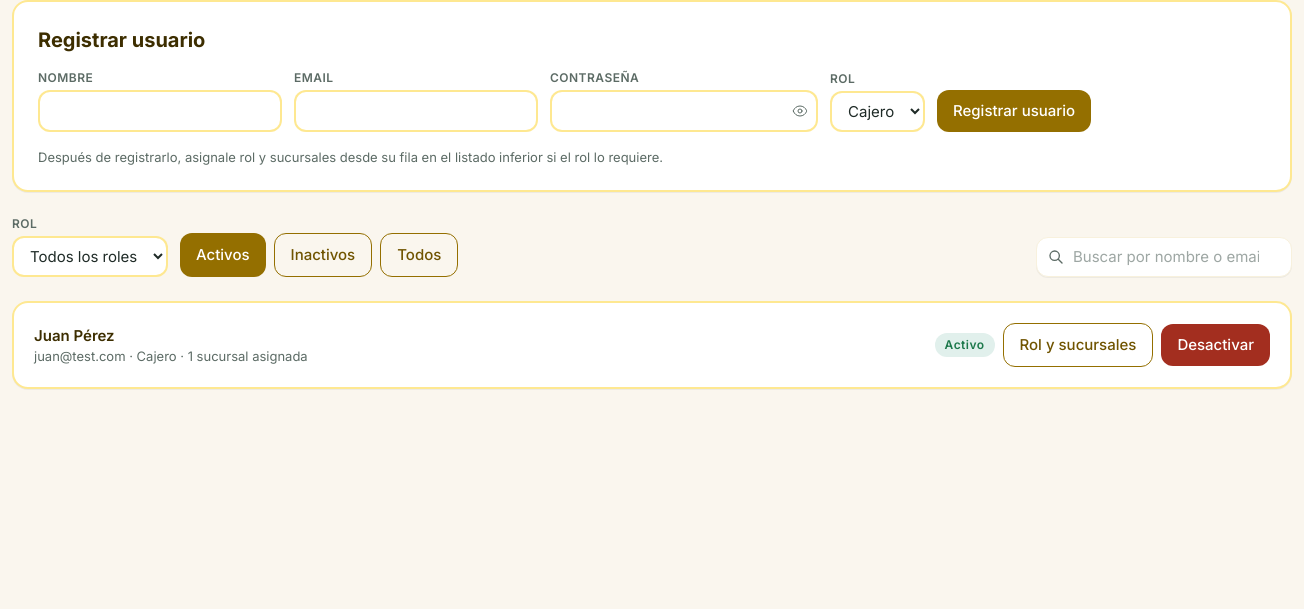
Test: Usuarios › oculta las casillas de sucursales cuando el rol elegido tiene alcance de cadena (dueño no necesita sucursales)
Click the button "Rol y sucursales" at (1078, 345), box [1002, 323, 1153, 367]
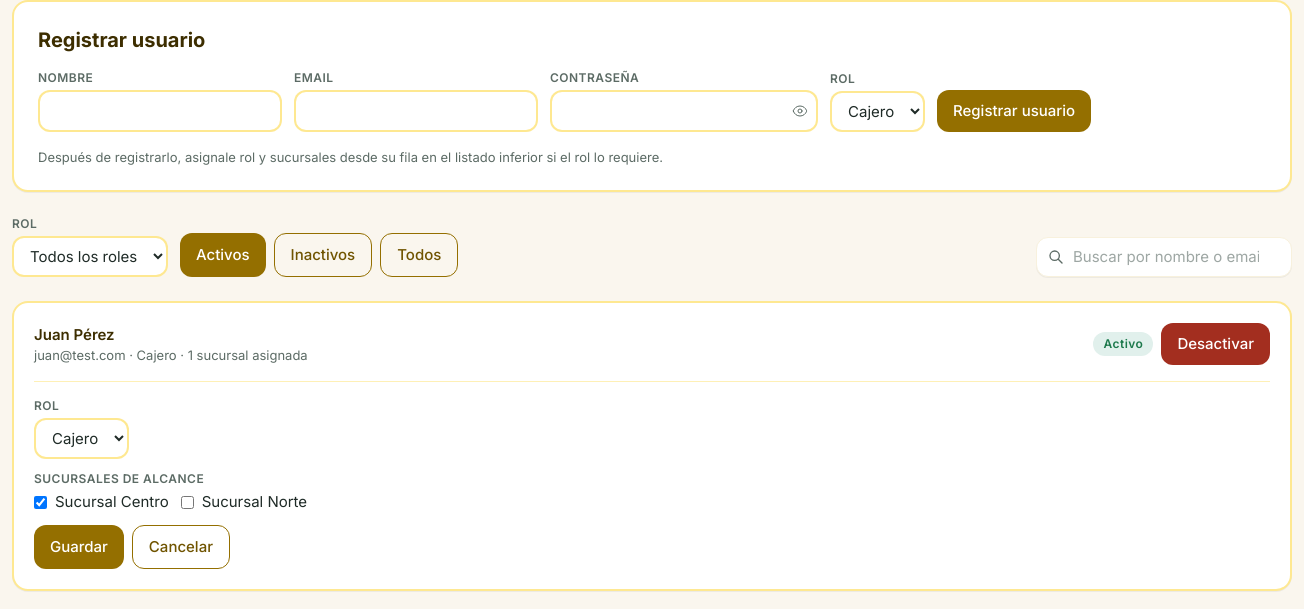
expect the checkbox labelled "Sucursal Centro" is shown: met, box [34, 496, 47, 508]
Select "Dueño" in the dropdown labelled "Rol" below "Juan Pérez" at (82, 438), box [34, 418, 129, 459]
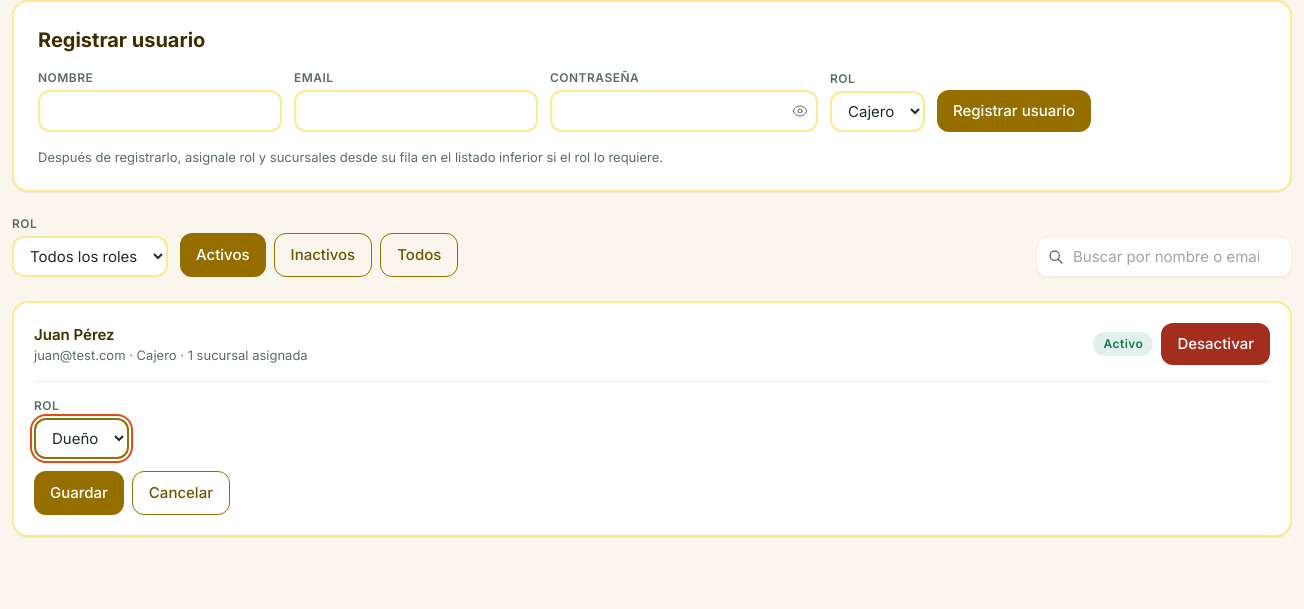
expect the label "Sucursal Centro" is gone: met
